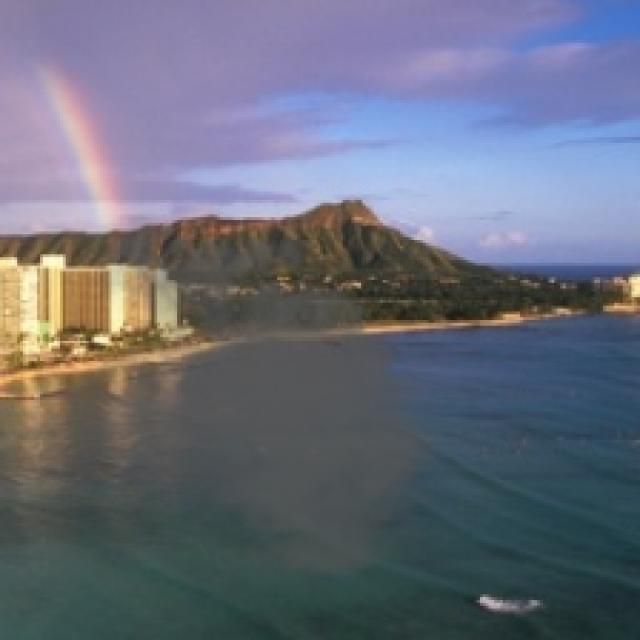Smoke: (66, 211, 457, 586)
